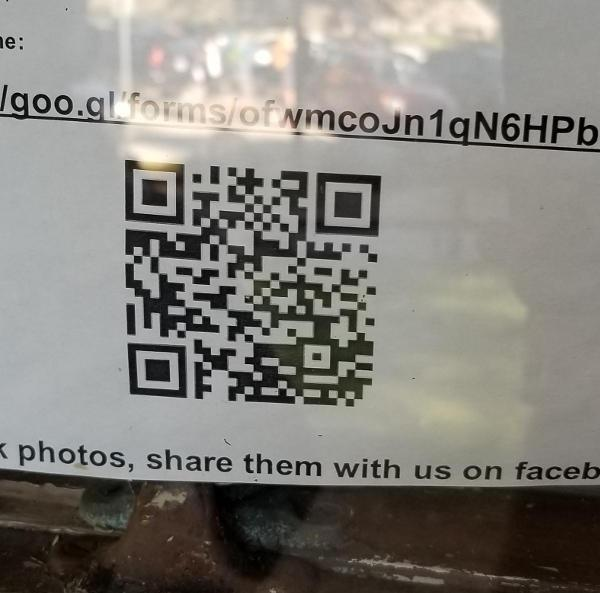Finder pattern: (307, 166, 387, 240), (116, 154, 194, 227), (117, 334, 188, 406)
